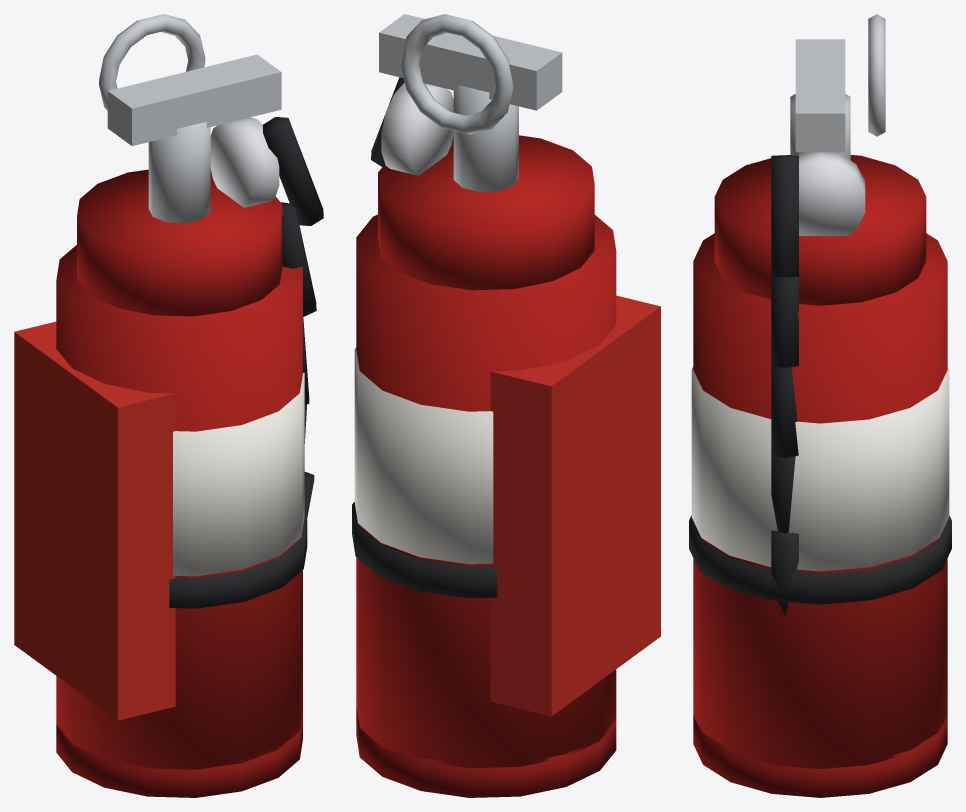
File: garage_extinguisher.glb
The picture shows the model from 3 angles, left to right: view 1: azimuth 30°, elevation 25°; view 2: azimuth 150°, elevation 25°; view 3: azimuth 270°, elevation 25°; orthographic projection. The views are drawn at different scales.
Visible parts, largest first — view 1: root; view 2: root; view 3: root.
Boxes of the visible parts, x1,y1,x2,y2 form: root: (14, 14, 323, 797); root: (352, 14, 660, 797); root: (689, 14, 951, 797).
Bounding box in the file's own units: 0.2445 × 0.6899 × 0.2268.
